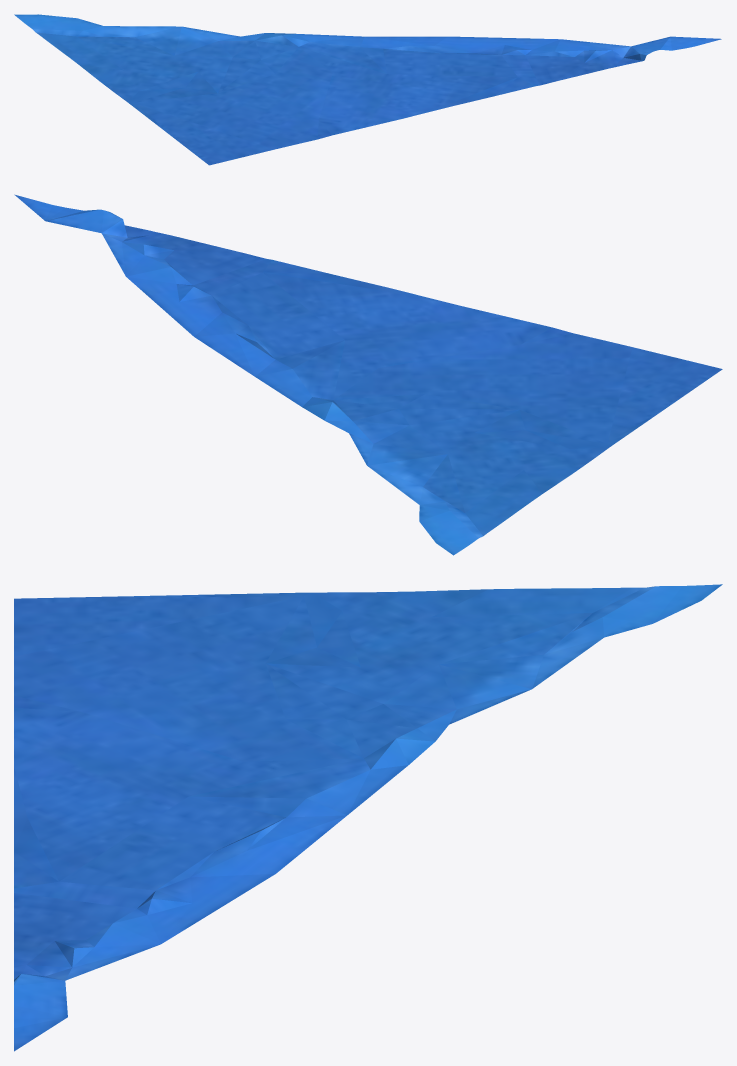
The picture shows the model from 3 angles, top to bottom: view 1: azimuth 30°, elevation 25°; view 2: azimuth 150°, elevation 25°; view 3: azimuth 270°, elevation 25°; orthographic projection. The views are drawn at different scales.
Bounding box in the file's own units: 17.12 × 0.3636 × 11.27.
Materials: 1 (1 with a texture image).
